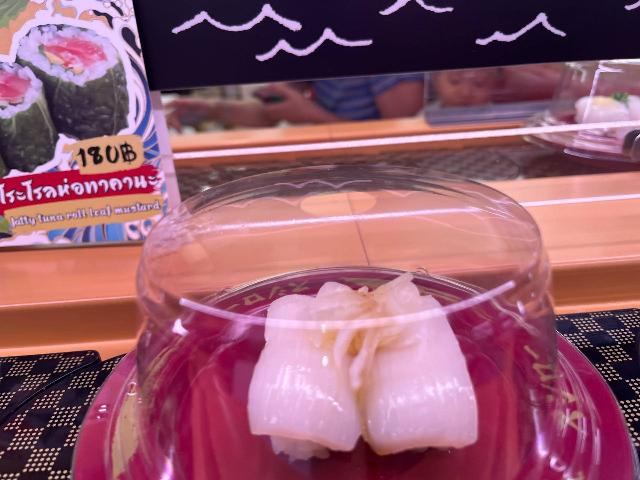janred: (122, 309, 598, 480), (511, 118, 640, 190)
